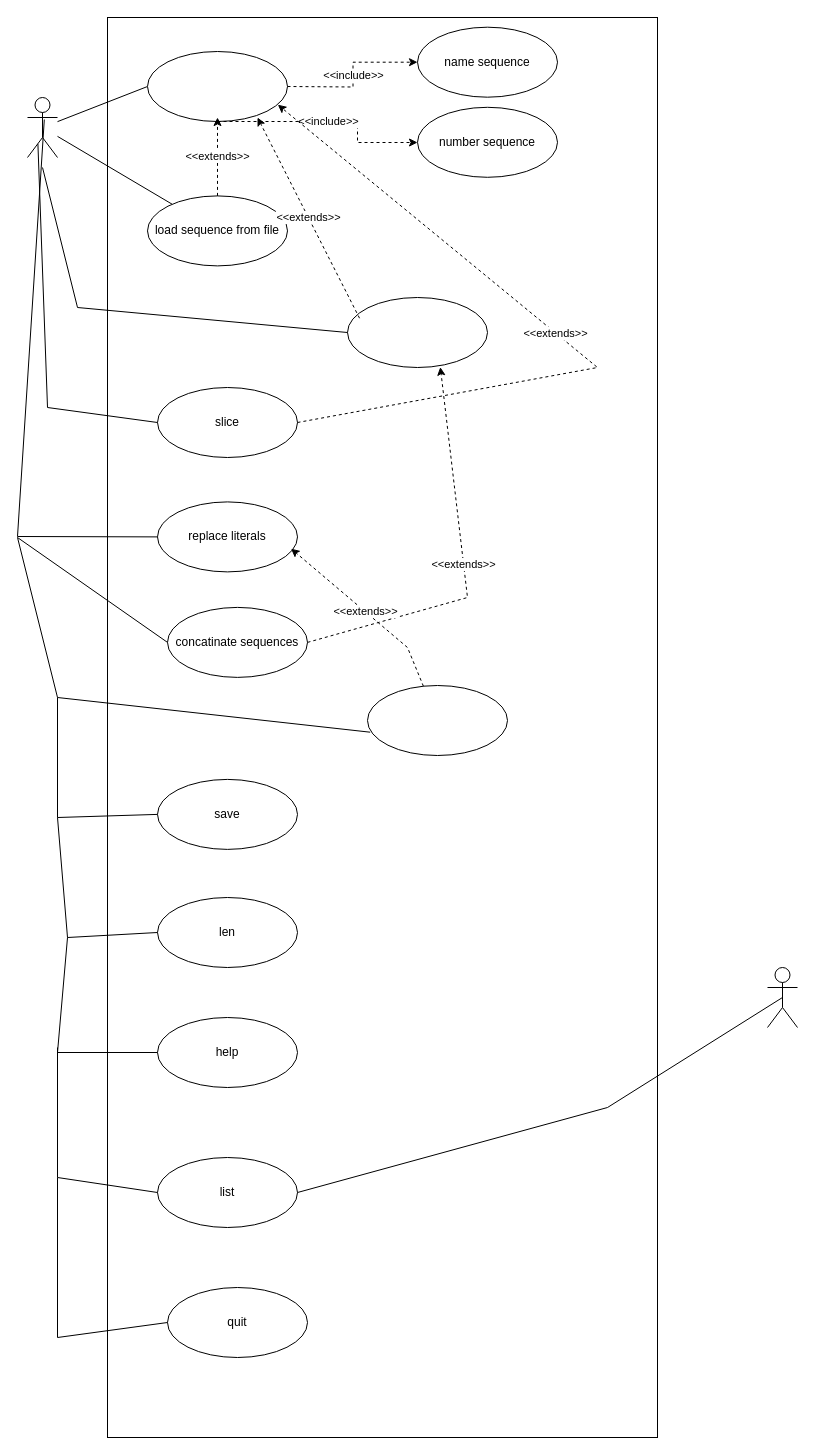
Image size: 824x1455. Some labels were removed from this diagram. The centre of each missing label's shape, as x and y in pixels:
"create new sequence" goes at point 217,86.
"database" goes at point 782,997.
"duplicate sequence" goes at point 417,332.
"pair" goes at point 437,720.
"user" goes at point 42,127.
